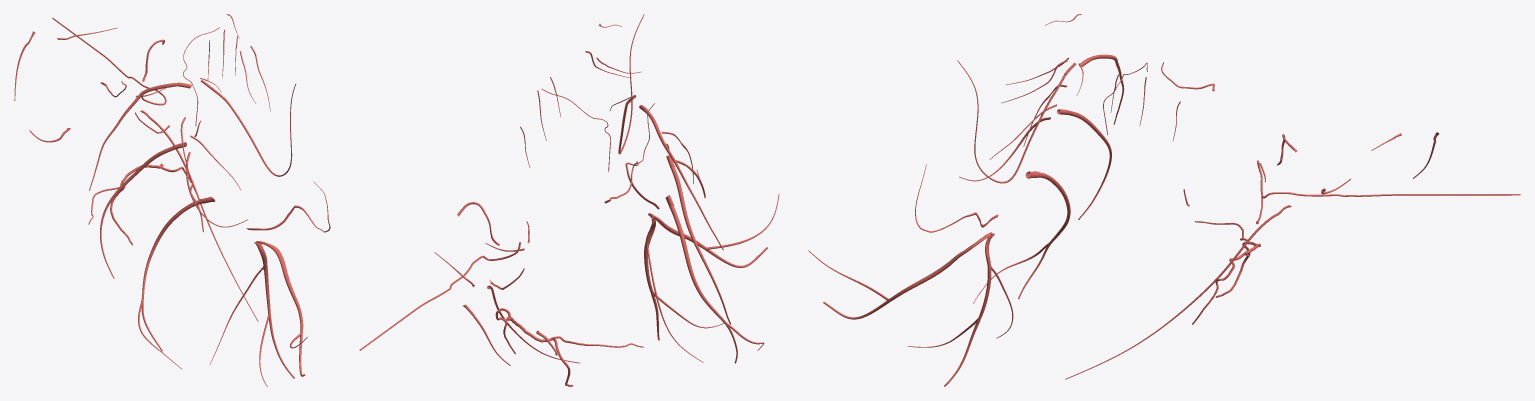
3 renders of one model, left to right at view 1: azimuth 30°, elevation 25°; view 2: azimuth 150°, elevation 25°; view 3: azimuth 270°, elevation 25°, orthographic. The views are drawn at different scales.
Visible parts, largest first — view 1: PCA posterior inferior temporal left, PCA parieto-occipital left, PCA middle inferior temporal left, PCA calcarine left, PCA anterior inferior temporal left, Medial posterior choroidal left, Posterior meningeal VA left, Posterior spinal left, PCA splenial left, PICA hemispheric left; view 2: PCA posterior inferior temporal left, PCA middle inferior temporal left, PCA anterior inferior temporal left, PCA calcarine left, PCA parieto-occipital left, Posterior spinal left, Medial posterior choroidal left; view 3: PCA parieto-occipital left, Posterior spinal left, Medial posterior choroidal left, PCA posterior inferior temporal left, Posterior meningeal VA left.
Boxes of the visible parts, x1,y1,x2,y2 form: PCA posterior inferior temporal left: [141, 196, 215, 351]; PCA parieto-occipital left: [256, 241, 305, 376]; PCA middle inferior temporal left: [100, 142, 186, 278]; PCA calcarine left: [254, 242, 294, 378]; PCA anterior inferior temporal left: [89, 82, 191, 190]; Medial posterior choroidal left: [200, 79, 296, 176]; Posterior meningeal VA left: [140, 110, 258, 321]; Posterior spinal left: [52, 18, 166, 105]; PCA splenial left: [246, 181, 330, 232]; PICA hemispheric left: [110, 163, 162, 245]; PCA posterior inferior temporal left: [665, 195, 737, 363]; PCA middle inferior temporal left: [666, 155, 730, 324]; PCA anterior inferior temporal left: [639, 105, 723, 250]; PCA calcarine left: [644, 218, 659, 340]; PCA parieto-occipital left: [648, 213, 767, 267]; Posterior spinal left: [359, 242, 520, 350]; Medial posterior choroidal left: [618, 14, 644, 154]; PCA parieto-occipital left: [823, 232, 991, 319]; Posterior spinal left: [1257, 160, 1520, 198]; Medial posterior choroidal left: [957, 60, 1076, 183]; PCA posterior inferior temporal left: [1018, 171, 1070, 299]; Posterior meningeal VA left: [1065, 205, 1291, 379].
Bounding box in the file's own units: 49.59 × 98.34 × 172.
